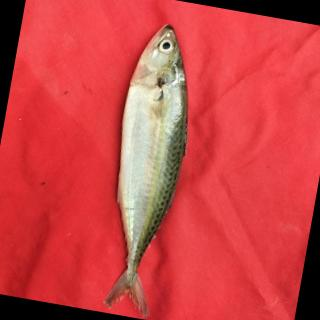Ikan: (72, 1, 227, 320)
